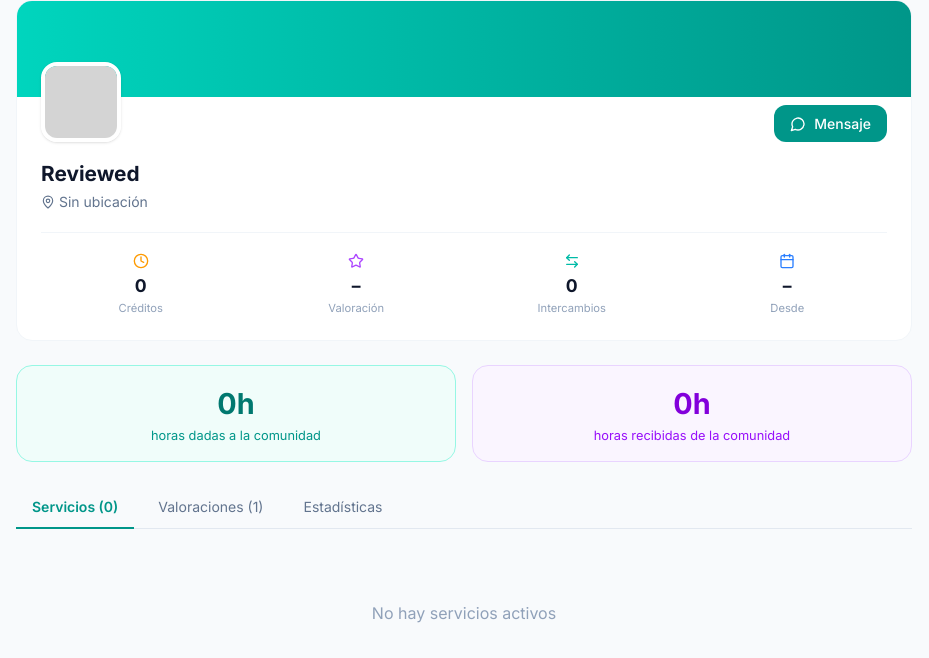
Scenario: renders reviews with reviewer name and comment
Click the button "Valoraciones (1)" at (211, 507), box x1=142 y1=486 x2=280 y2=529
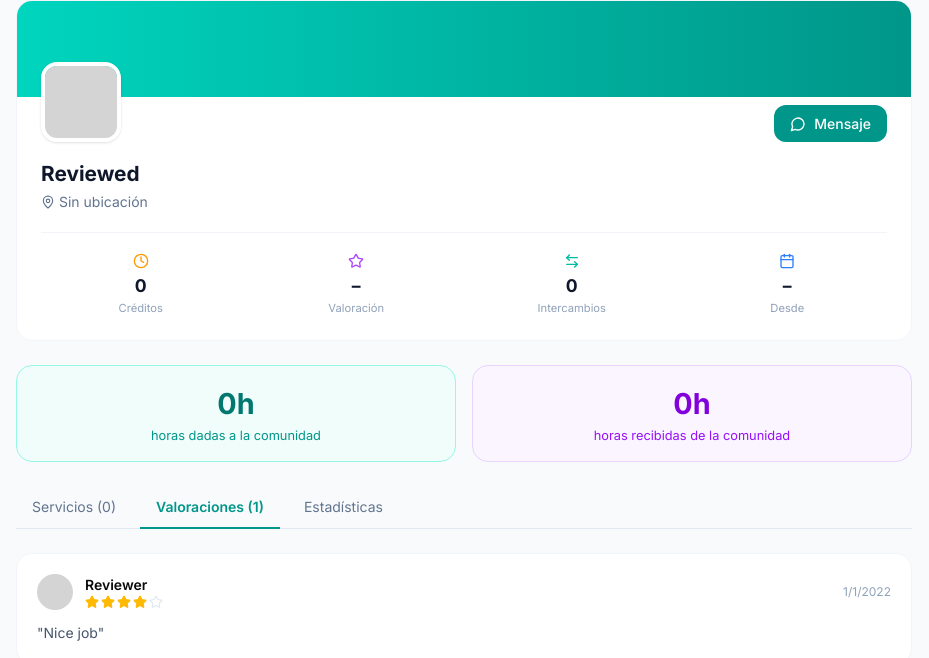
expect the text "\"Nice job\"" is shown: met, box x1=37 y1=624 x2=104 y2=641
expect the text "Reviewer" is shown: met, box x1=85 y1=576 x2=147 y2=593
